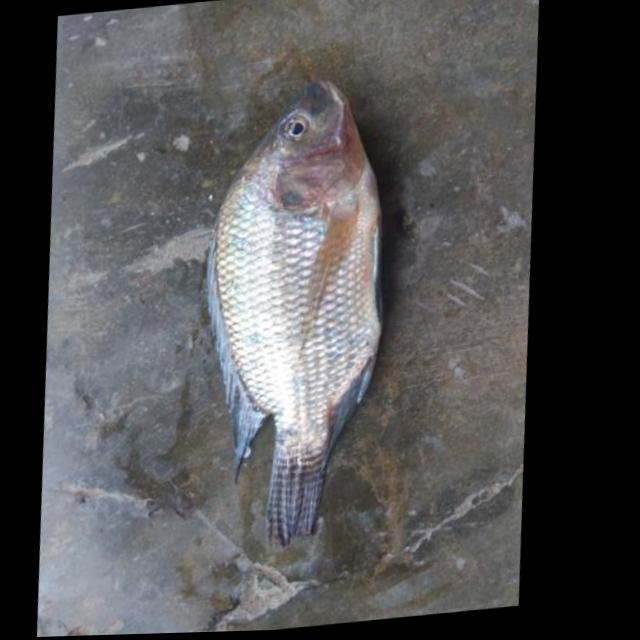Tilapia: (160, 69, 425, 555)
